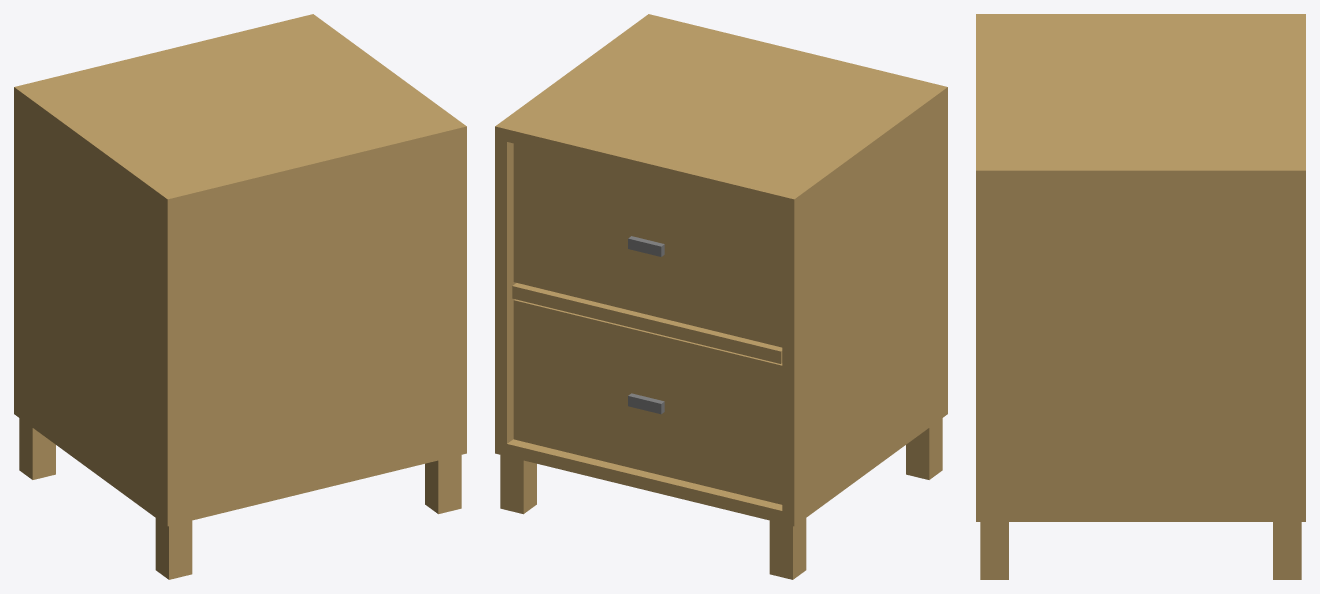
The picture shows the model from 3 angles, left to right: view 1: azimuth 30°, elevation 25°; view 2: azimuth 150°, elevation 25°; view 3: azimuth 270°, elevation 25°; orthographic projection. The views are drawn at different scales.
Visible parts, largest first — view 1: ns-back, ns-side-L, ns-top, ns-side-R, ns-leg-BL, ns-leg-BR, ns-leg-FL; view 2: ns-side-L, ns-top, ns-drawer-1, ns-drawer-2, ns-side-R, ns-bottom, ns-divider-1, ns-leg-FL, ns-leg-FR, ns-back, ns-leg-BL; view 3: ns-side-R, ns-top, ns-back, ns-leg-FR, ns-leg-BR.
Part boxes in pixels (x1,y1,x2,y2): ns-back: [164, 124, 466, 525]; ns-side-L: [14, 84, 179, 526]; ns-top: [14, 14, 466, 211]; ns-side-R: [302, 14, 466, 456]; ns-leg-BL: [155, 518, 192, 579]; ns-leg-BR: [425, 455, 461, 514]; ns-leg-FL: [19, 418, 55, 479]; ns-side-L: [782, 84, 947, 526]; ns-top: [495, 14, 947, 211]; ns-drawer-1: [513, 299, 782, 504]; ns-drawer-2: [513, 143, 782, 347]; ns-side-R: [495, 14, 659, 456]; ns-bottom: [507, 439, 782, 523]; ns-divider-1: [512, 283, 782, 363]; ns-leg-FL: [769, 518, 806, 579]; ns-leg-FR: [500, 455, 536, 514]; ns-back: [647, 15, 947, 415]; ns-leg-BL: [906, 418, 942, 479]; ns-side-R: [976, 164, 1305, 521]; ns-top: [976, 14, 1305, 184]; ns-back: [976, 14, 983, 505]; ns-leg-FR: [1273, 522, 1301, 579]; ns-leg-BR: [980, 522, 1008, 579].
Bounding box in the file's own units: 0.45 × 0.55 × 0.4.
